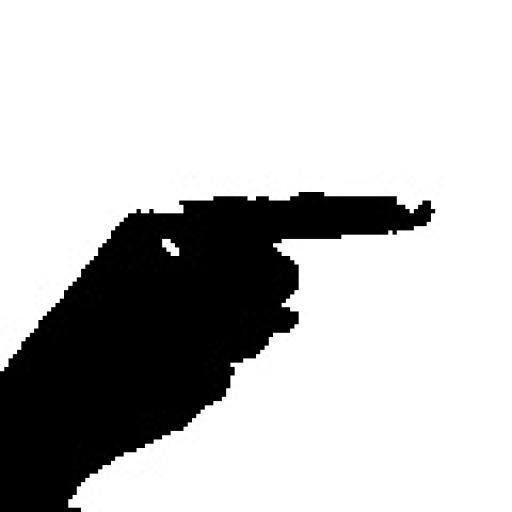index_right: (0, 190, 436, 411)
